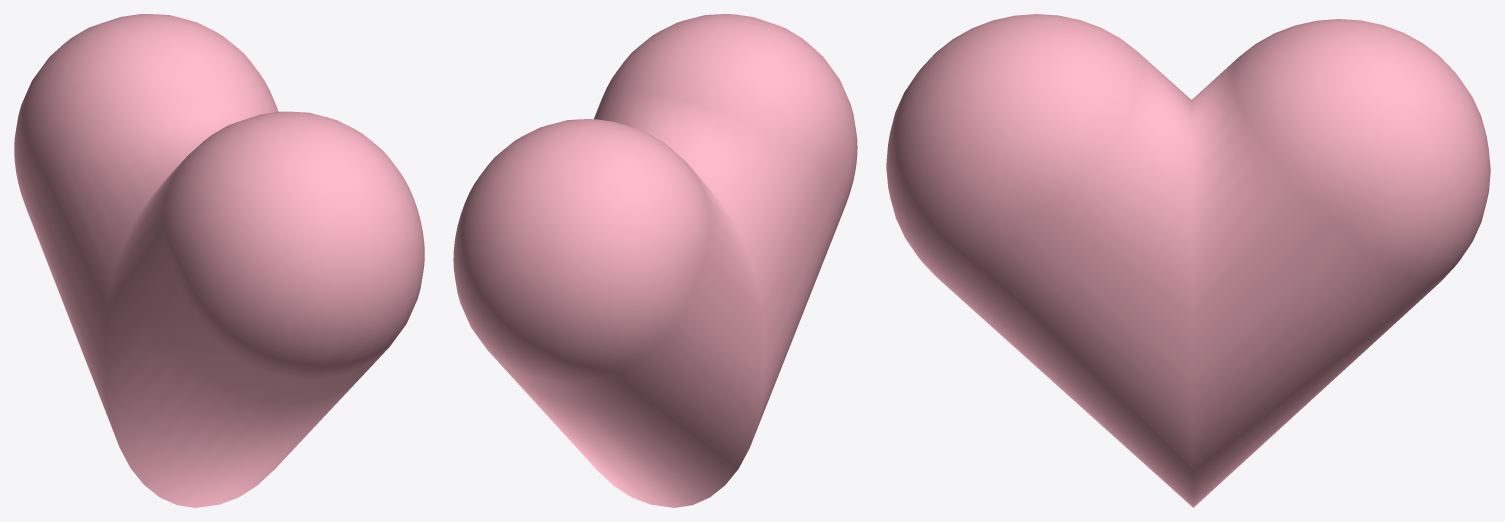
The picture shows the model from 3 angles, left to right: view 1: azimuth 30°, elevation 25°; view 2: azimuth 150°, elevation 25°; view 3: azimuth 270°, elevation 25°; orthographic projection. The views are drawn at different scales.
Parts seen in each view (by area): view 1: Cube; view 2: Cube; view 3: Cube.
Boxes of the visible parts, left/top/right/bottom form: Cube: left=14, top=14, right=424, bottom=507; Cube: left=453, top=14, right=857, bottom=507; Cube: left=886, top=14, right=1490, bottom=507.
Bounding box in the file's own units: 1.87 × 3.44 × 4.01.
